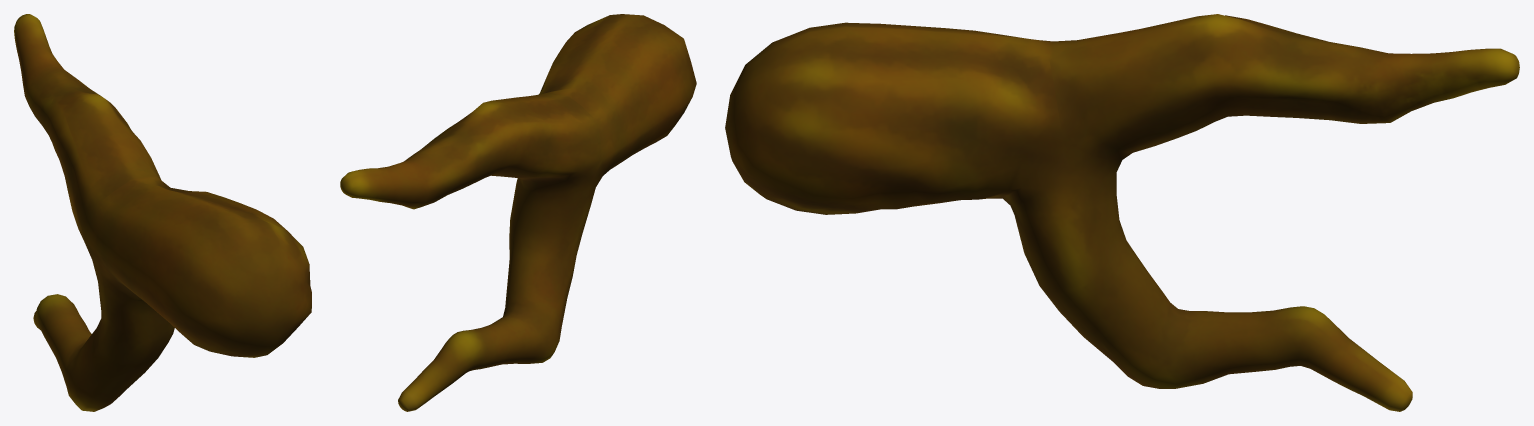
3 renders of one model, left to right at view 1: azimuth 30°, elevation 25°; view 2: azimuth 150°, elevation 25°; view 3: azimuth 270°, elevation 25°, orthographic. The views are drawn at different scales.
Parts seen in each view (by area): view 1: SM_Root_11_LOD0; view 2: SM_Root_11_LOD0; view 3: SM_Root_11_LOD0.
Part boxes in pixels (x1,y1,x2,y2): SM_Root_11_LOD0: (14, 14, 311, 411); SM_Root_11_LOD0: (340, 14, 696, 411); SM_Root_11_LOD0: (725, 14, 1519, 411).
Bounding box in the file's own units: 21.95 × 87.11 × 46.32.
1 material, 1 textured.
